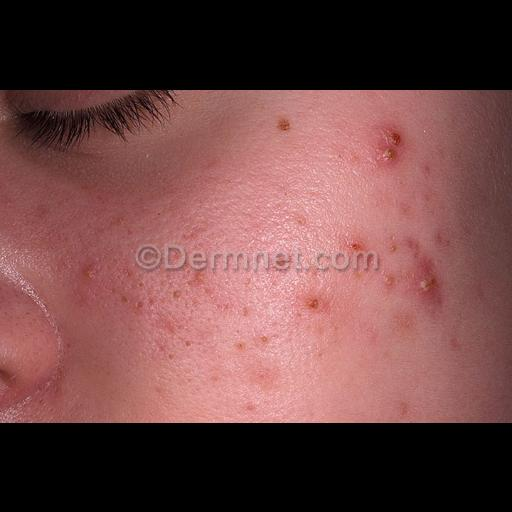Skin_Lesion: (414, 266, 446, 310), (374, 124, 404, 168), (232, 325, 270, 359), (168, 288, 192, 314), (306, 289, 326, 319), (78, 260, 104, 282), (191, 272, 209, 292), (348, 231, 362, 253)
